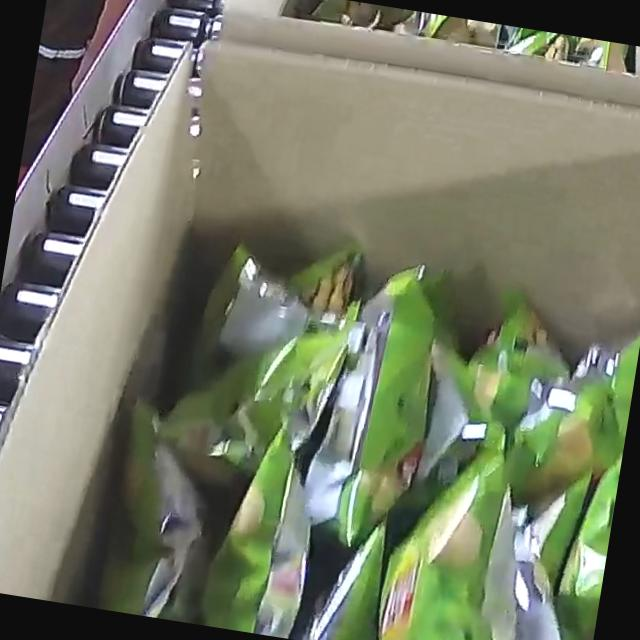yogurt: (95, 212, 640, 640)
